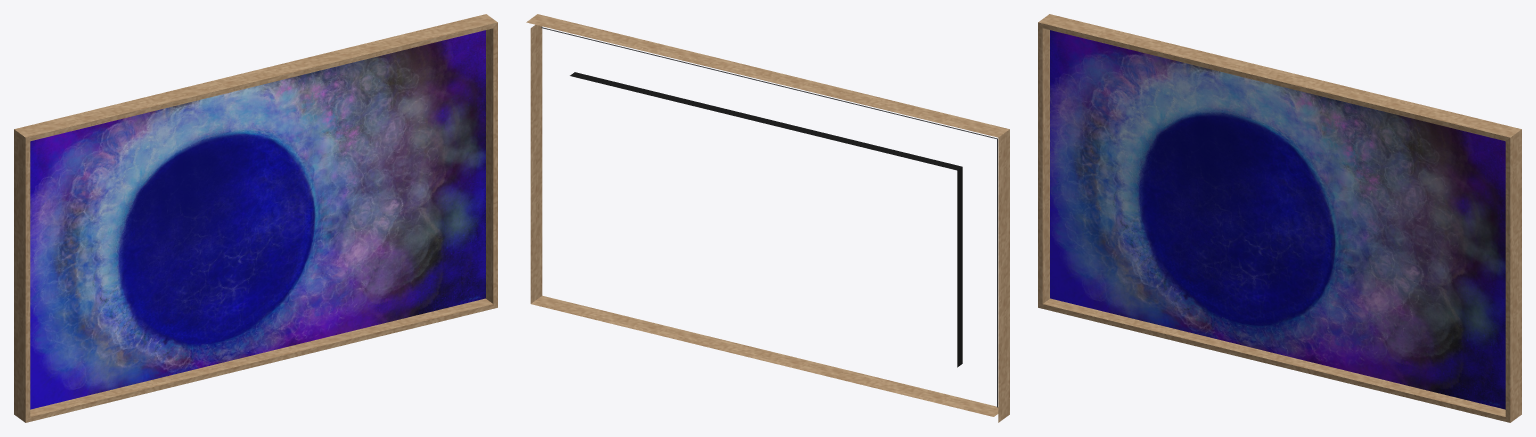
File: hz016_moyen_caisse-chene.glb
The picture shows the model from 3 angles, left to right: view 1: azimuth 30°, elevation 25°; view 2: azimuth 150°, elevation 25°; view 3: azimuth 330°, elevation 25°; orthographic projection.
Visible parts, largest first — view 1: hz016_moyen_caisse-chene; view 2: hz016_moyen_caisse-chene; view 3: hz016_moyen_caisse-chene.
Boxes of the visible parts, x1,y1,x2,y2 form: hz016_moyen_caisse-chene: (14, 14, 497, 422); hz016_moyen_caisse-chene: (526, 14, 1009, 422); hz016_moyen_caisse-chene: (1038, 14, 1521, 422).
Bounding box in the file's own units: 0.828 × 0.478 × 0.035.
4 materials, 2 textured.
